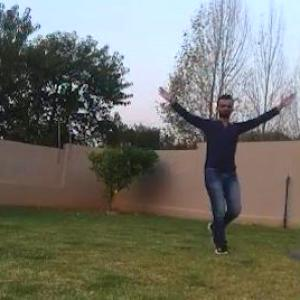takeoff: (157, 87, 296, 256)
